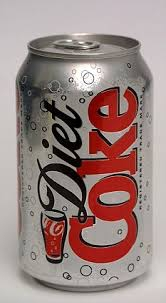can: (10, 30, 157, 290)
